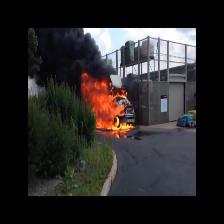fire: (77, 69, 134, 134)
